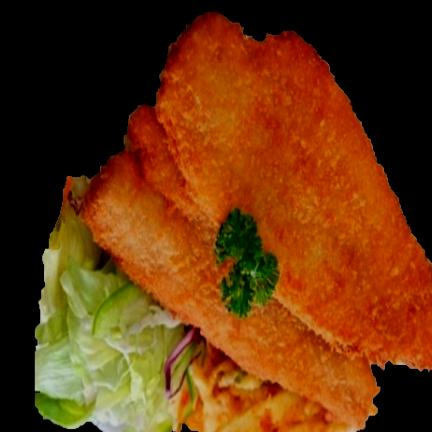chicken: (79, 13, 432, 432)
salad: (36, 203, 184, 432)
